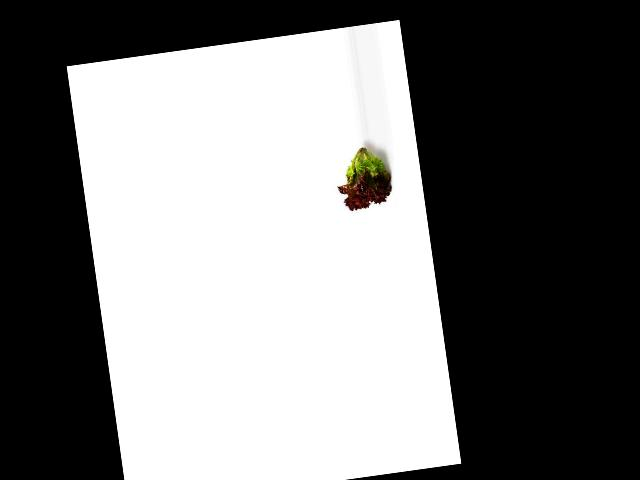lettuce: (333, 136, 396, 215)
